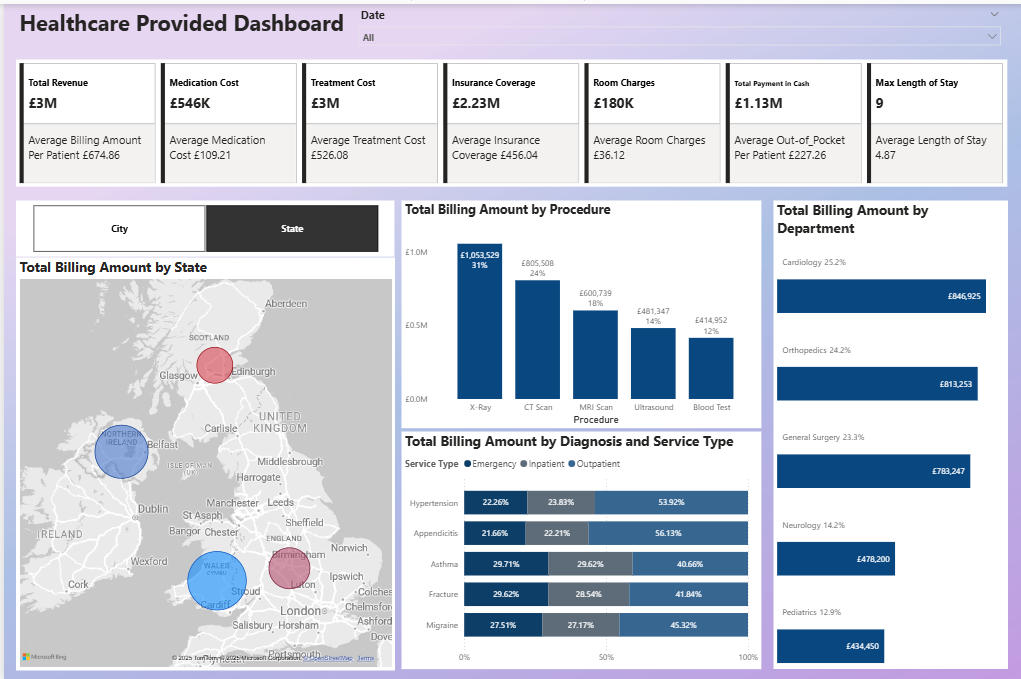

What the dashboard file says about the page in this screenshot:
{"tool":"powerbi","page":{"name":"Financial Overview","canvas":[1500,1000],"ordinal":0},"visuals":[{"type":"cardVisual","fields":{"Data":["All Measures.Total Billing Amount","All Measures.Total Medication cost","All Measures.Total Treatment Cost","All Measures.Total Insurance Coverage","All Measures.Total Room Charges","All Measures.Total Payment in cash","All Measures.Total Length of Stay"]},"box":[17.5,82.5,1460,187.5],"z":0},{"type":"map","fields":{"Category":["cities.State"],"Size":["All Measures.Total Billing Amount"]},"box":[17.5,372.5,557.5,607.5],"z":1000},{"type":"slicer","fields":{"Values":["Patients Location Switch.Patients Location Switch"]},"box":[17.5,290,557.5,82.5],"z":2000},{"type":"clusteredColumnChart","fields":{"Category":["procedures.Procedure"],"Y":["All Measures.Total Billing Amount"]},"box":[585,290,530,335],"z":3000},{"type":"hundredPercentStackedBarChart","fields":{"Y":["All Measures.Total Billing Amount"],"Category":["diagnoses.Diagnosis"],"Series":["visits.Service Type"]},"box":[585,630,530,350],"z":4000},{"type":"clusteredBarChart","title":"Total Billing Amount by Department","fields":{"Y":["All Measures.Blank Measure","All Measures.Total Billing Amount"],"Category":["departments.Department"]},"box":[1132.5,290,345,690],"z":5000},{"type":"textbox","box":[17.2,0,517.3,59.4],"z":6000},{"type":"slicer","fields":{"Values":["Date Table.Year","Date Table.Qtr","Date Table.Month","Date Table.WeekType"]},"box":[512.5,0,965.4,81.7],"z":7000}]}

Visuals, with their boxes in screenshot pixels (x1, y1, x2, y2), scaled from the page's 1500x1000 canvas onto the 1021x679 screenshot:
cardVisual - All Measures.Total Billing Amount x All Measures.Total Medication cost: x1=12, y1=56, x2=1006, y2=183
map - cities.State x All Measures.Total Billing Amount: x1=12, y1=253, x2=391, y2=665
slicer - Patients Location Switch.Patients Location Switch: x1=12, y1=197, x2=391, y2=253
clusteredColumnChart - procedures.Procedure x All Measures.Total Billing Amount: x1=398, y1=197, x2=759, y2=424
hundredPercentStackedBarChart - All Measures.Total Billing Amount x diagnoses.Diagnosis: x1=398, y1=428, x2=759, y2=665
"Total Billing Amount by Department" clusteredBarChart: x1=771, y1=197, x2=1006, y2=665
textbox: x1=12, y1=0, x2=364, y2=40
slicer - Date Table.Year x Date Table.Qtr: x1=349, y1=0, x2=1006, y2=55
